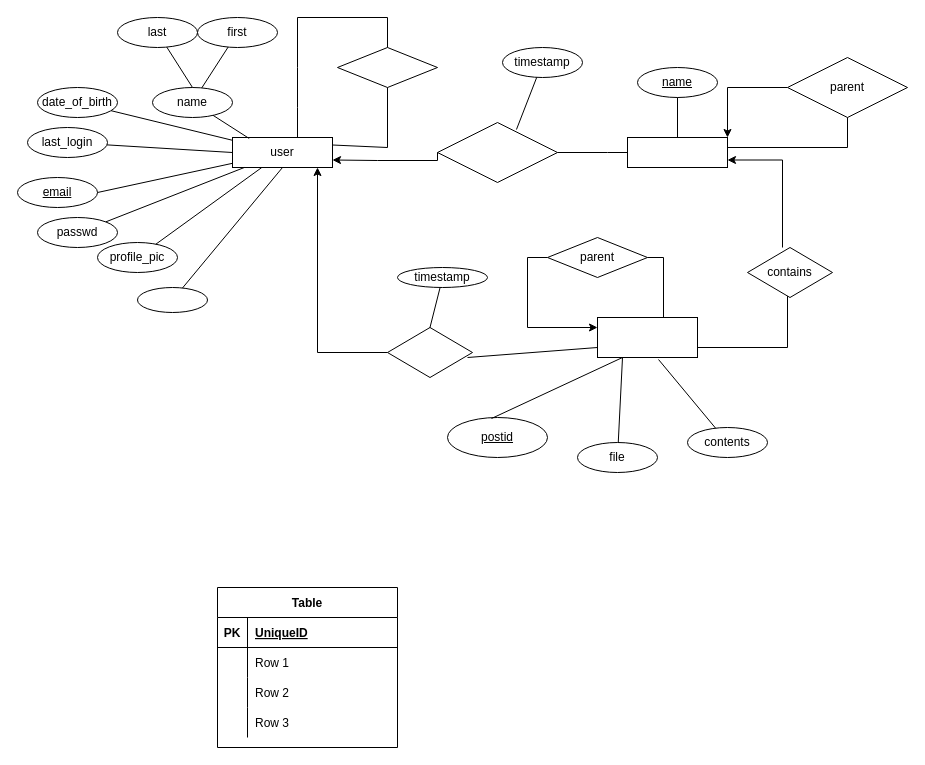
Some shapes in this 925 by 765 pixel diagram are drawn without their labels. Each missing label, with the centre of its shape:
b_admin: (172,299)
creates: (497,152)
follows: (387,67)
post: (647,337)
posts: (429,352)
topic: (677,152)
